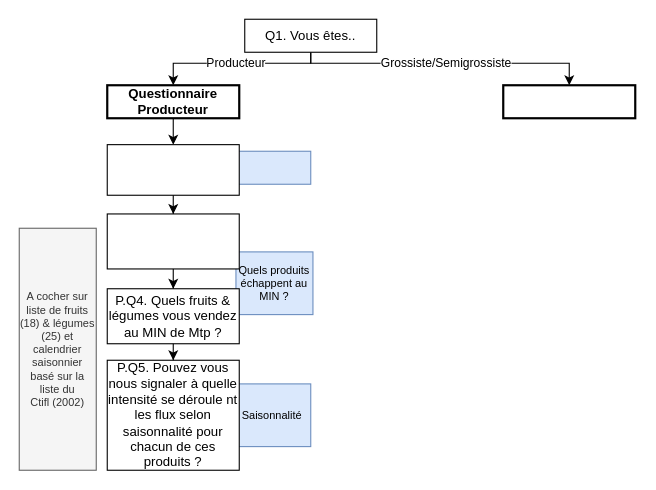
Image size: 656x490. Some labels were removed from this diagram. The centre of each missing label's shape, as x and y in pixels:
Origine: [272,167]
P.Q2. Vous êtes implanté où? Commune/ département: [172,169]
P.Q3. Quels fruits & légumes vous produisez ?: [172,241]
Questionnaire commerçants: [569,101]
